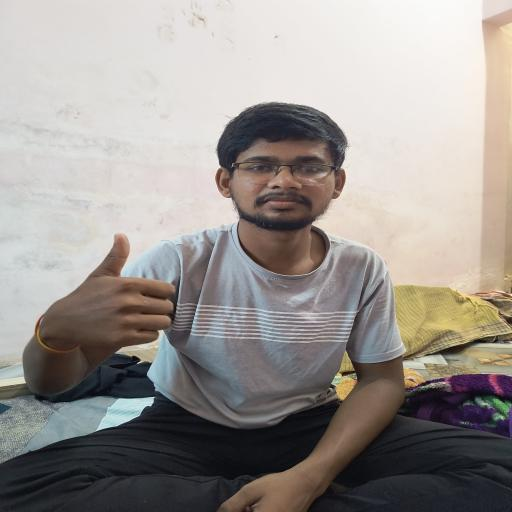Good Morning: (47, 226, 205, 366)
